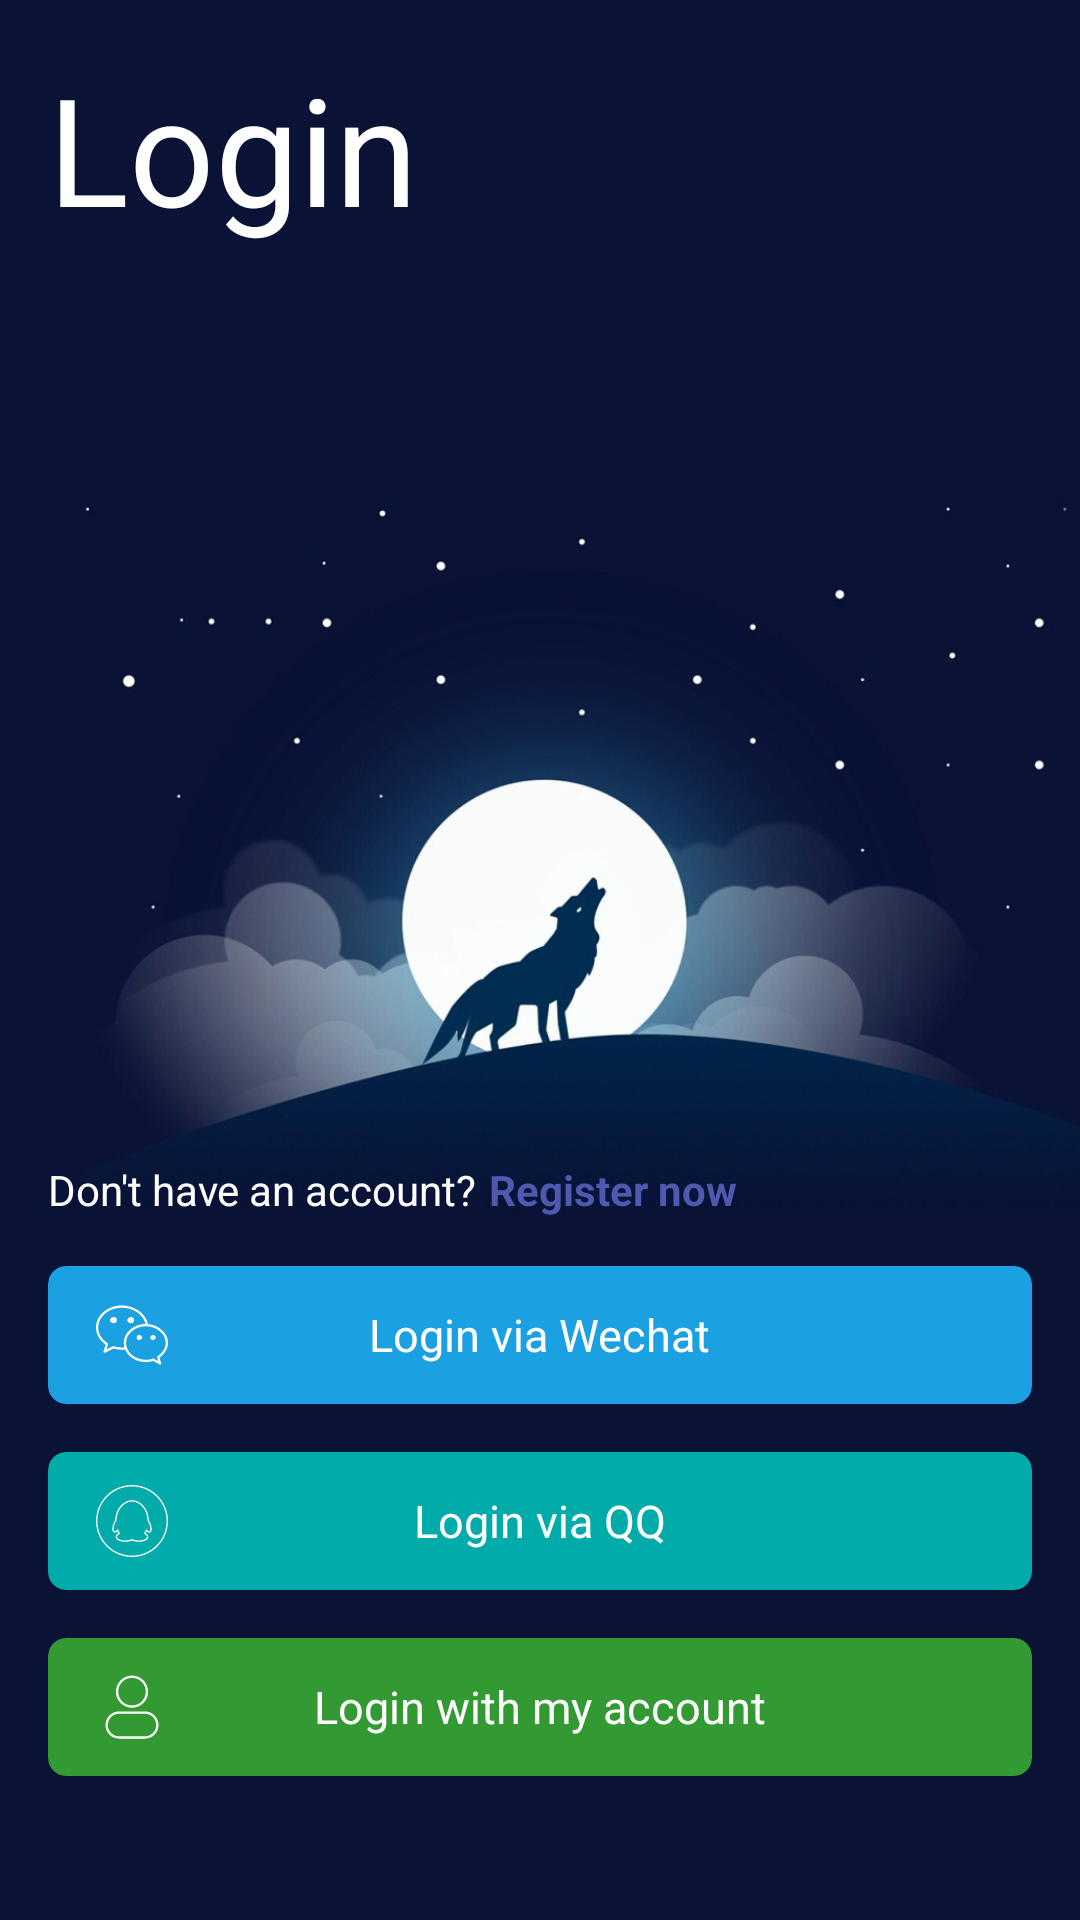

Where to tap for icons on this 1080 x 1920 app screen, as point (x, y):
ali user border: point (132, 1707)
